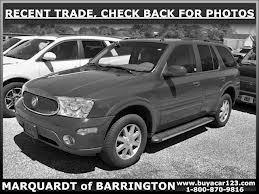car: (13, 39, 243, 170)
